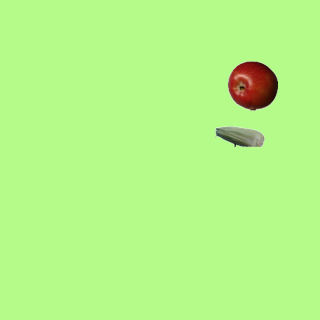Apple Braeburn: (227, 60, 277, 110)
Corn Husk: (214, 111, 264, 161)
